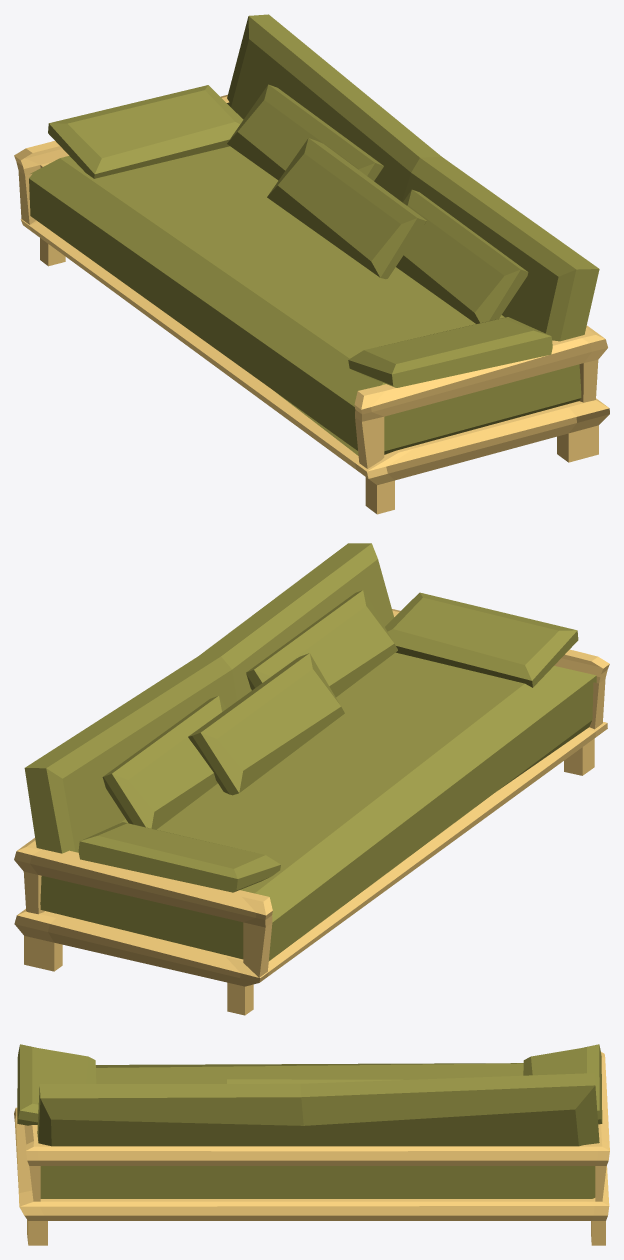
The model's file is couchSideJ.FBX.
3 renders of one model, top to bottom at view 1: azimuth 30°, elevation 25°; view 2: azimuth 150°, elevation 25°; view 3: azimuth 270°, elevation 25°, orthographic. The views are drawn at different scales.
Visible parts, largest first — view 1: Object036; view 2: Object036; view 3: Object036.
Part boxes in pixels (<box>): Object036: <box>14,14,609,514</box>; Object036: <box>14,543,609,1015</box>; Object036: <box>14,1044,609,1245</box>.
Size of the model in its own units: 99.51 by 73.4 by 238.
